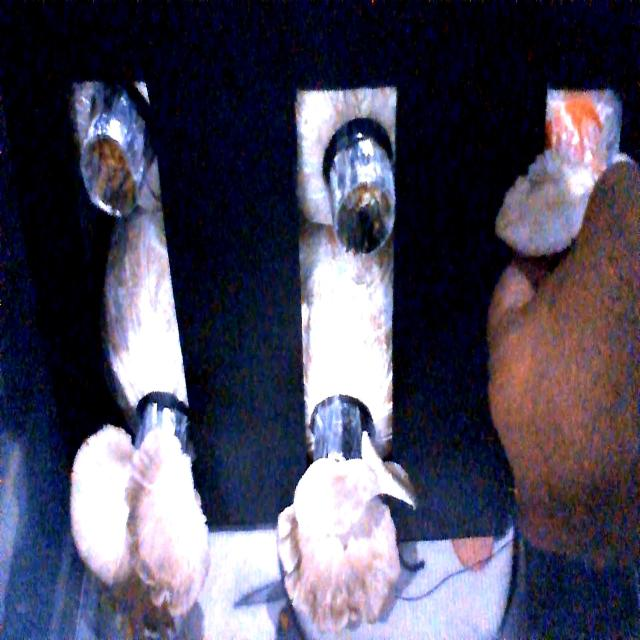big: (71, 434, 212, 595), (273, 468, 411, 627)
nfound: (79, 123, 148, 220), (339, 176, 388, 262)
